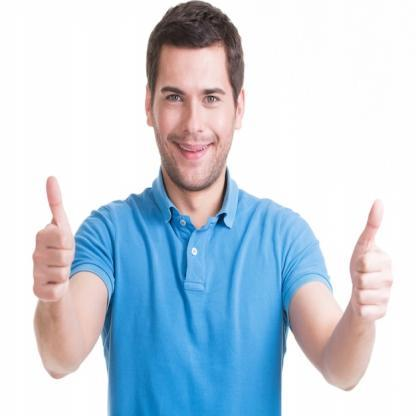thumb_up: (31, 172, 77, 304), (347, 197, 394, 324)
